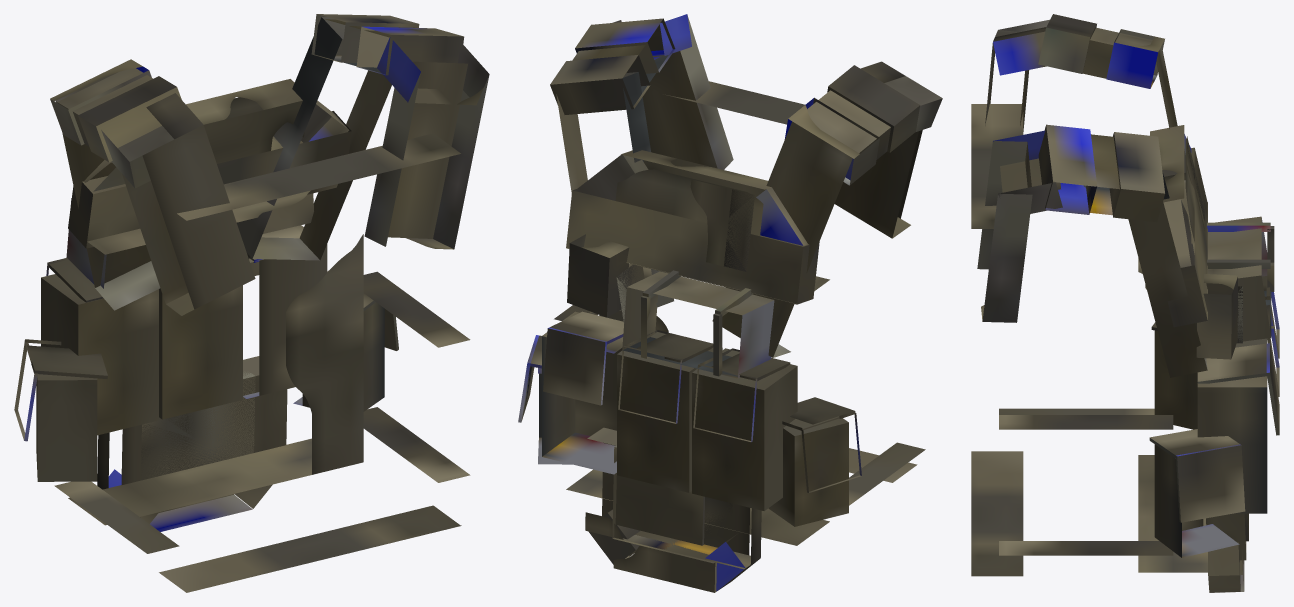
Rendered from guard.obj.
3 views of the same model, side by side, from view 1: azimuth 30°, elevation 25°; view 2: azimuth 150°, elevation 25°; view 3: azimuth 270°, elevation 25° (orthographic). The views are drawn at different scales.
Visible parts, largest first — view 1: guard; view 2: guard; view 3: guard.
Part boxes in pixels (x1,y1,x2,y2): guard: (14,14,489,592); guard: (518,14,942,592); guard: (971,14,1279,592).
Bounding box in the file's own units: 0.725 × 0.9726 × 0.5538.
